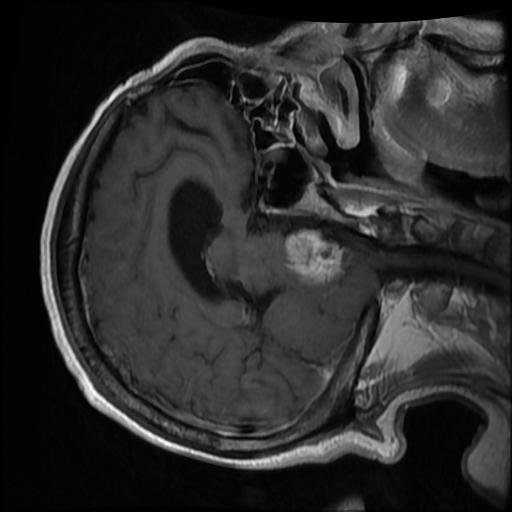meningioma: (282, 227, 345, 284)
